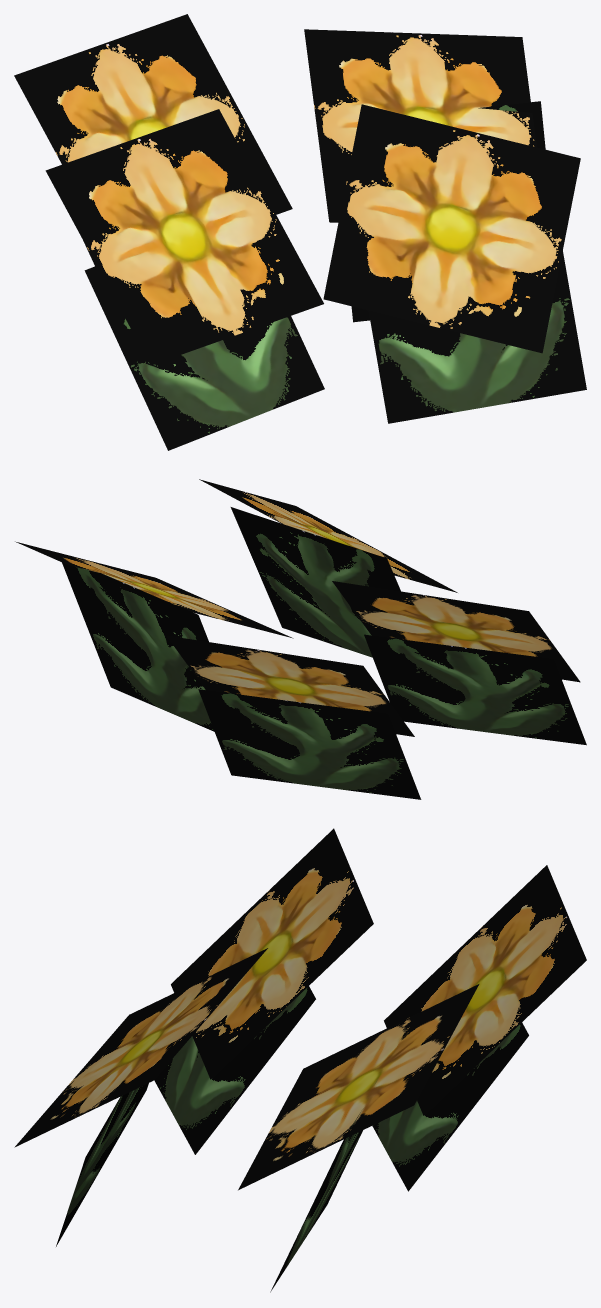
The model's file is Flower_003_HD.fbx.
The picture shows the model from 3 angles, top to bottom: view 1: azimuth 30°, elevation 25°; view 2: azimuth 150°, elevation 25°; view 3: azimuth 270°, elevation 25°; orthographic projection. The views are drawn at different scales.
Parts seen in each view (by area): view 1: It_019_Flower_003; view 2: It_019_Flower_003; view 3: It_019_Flower_003.
Boxes of the visible parts, x1,y1,x2,y2 form: It_019_Flower_003: (14, 14, 586, 450); It_019_Flower_003: (15, 479, 586, 799); It_019_Flower_003: (14, 828, 586, 1292).
Size of the model in its own units: 0.9733 by 0.4398 by 0.9232.
